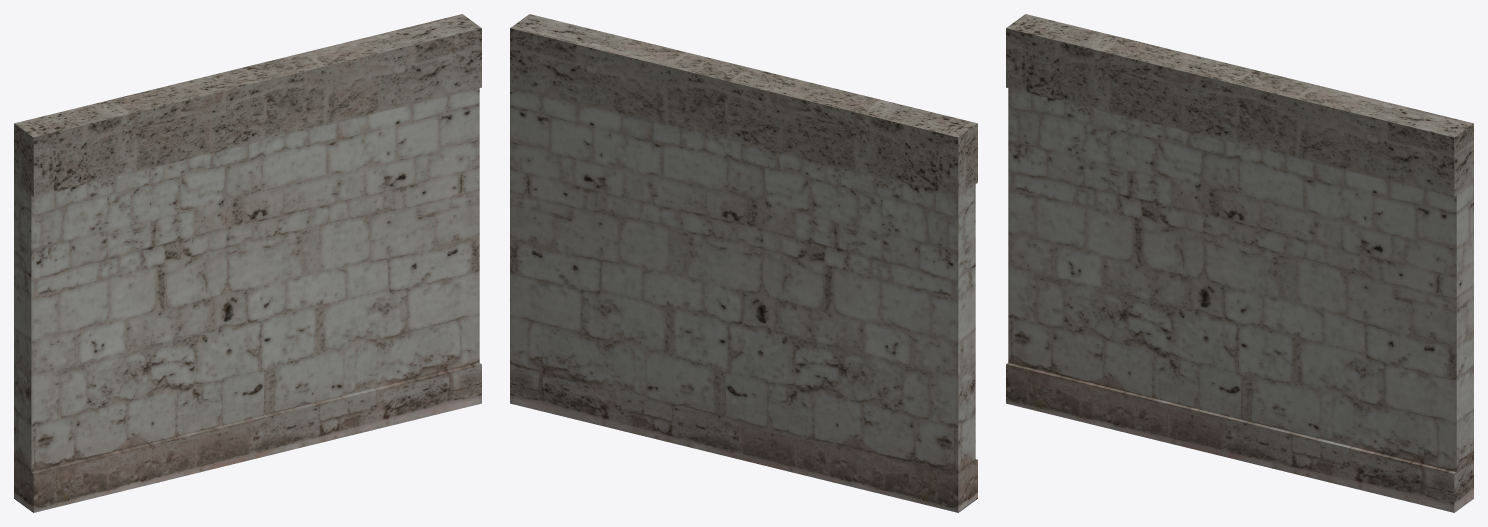
Rendered from Brick_Wall.FBX.
3 renders of one model, left to right at view 1: azimuth 30°, elevation 25°; view 2: azimuth 150°, elevation 25°; view 3: azimuth 330°, elevation 25°, orthographic.
Parts seen in each view (by area): view 1: Brick_Wall; view 2: Brick_Wall; view 3: Brick_Wall.
Boxes of the visible parts, x1,y1,x2,y2 form: Brick_Wall: (14,14,481,512); Brick_Wall: (510,14,977,512); Brick_Wall: (1006,14,1473,512).
Size of the model in its own units: 960 by 768 by 72.
